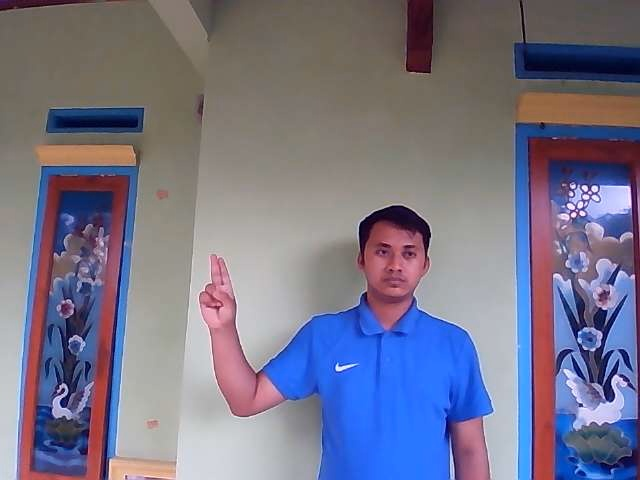U: (198, 253, 236, 329)
